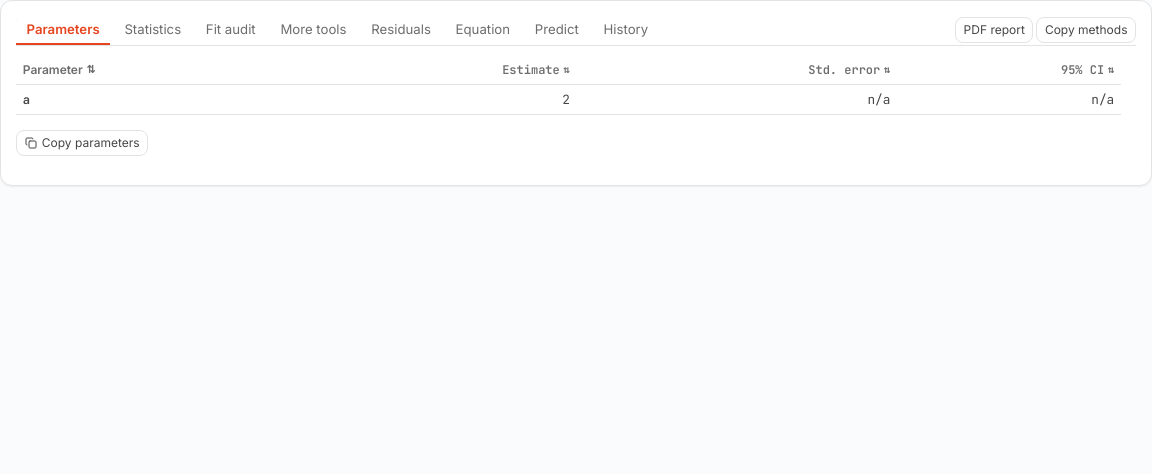
Test: the tab strip › the Fit audit tab renders its heading and the audit's summary
Click the tab "Fit audit": (231, 30) [195,14,266,45]
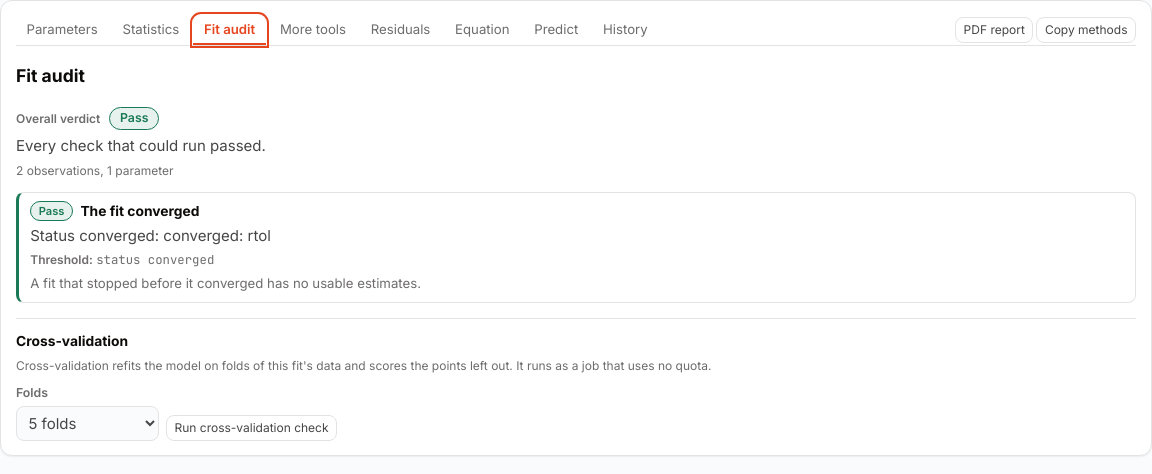
Expected: the heading "Fit audit" is shown, [16,65,85,86]
Expected: the text "Every check that could run passed." is shown, [16,136,266,154]
